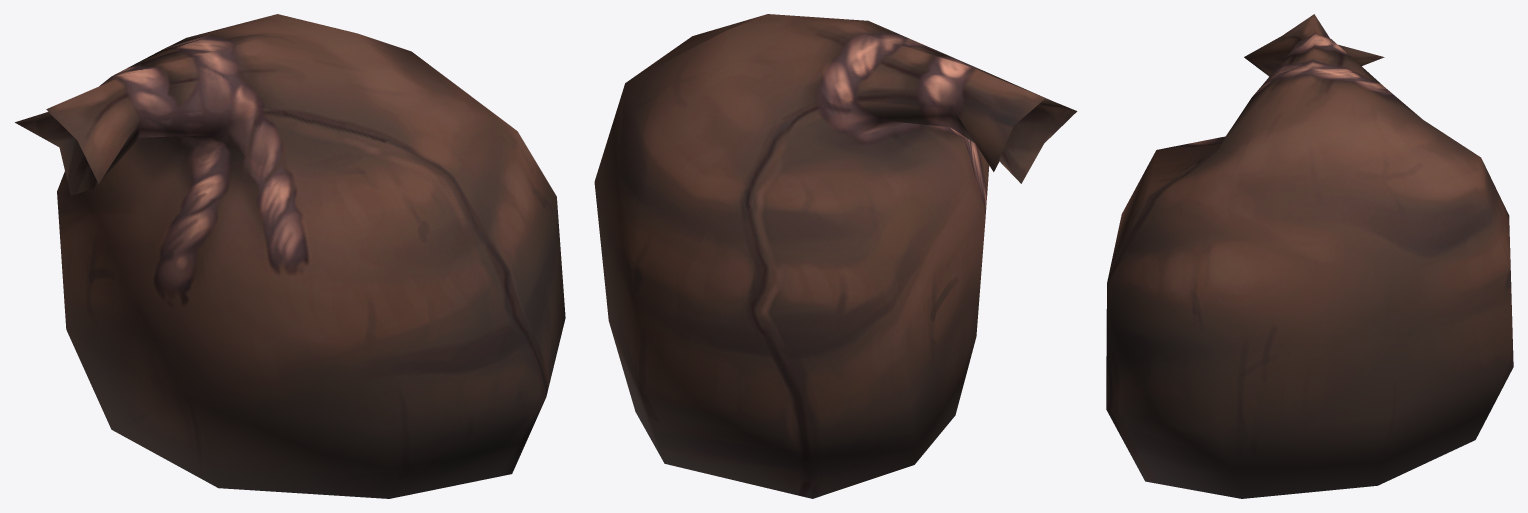
File: sack_of_gold_medium.fbx
3 views of the same model, side by side, from view 1: azimuth 30°, elevation 25°; view 2: azimuth 150°, elevation 25°; view 3: azimuth 270°, elevation 25° (orthographic). The views are drawn at different scales.
Parts seen in each view (by area): view 1: sack_of_gold_medium; view 2: sack_of_gold_medium; view 3: sack_of_gold_medium.
Part boxes in pixels (<box>): sack_of_gold_medium: <box>15,14,565,498</box>; sack_of_gold_medium: <box>594,14,1077,498</box>; sack_of_gold_medium: <box>1106,14,1513,498</box>.
Bounding box in the file's own units: 72.03 × 61.77 × 65.55.
